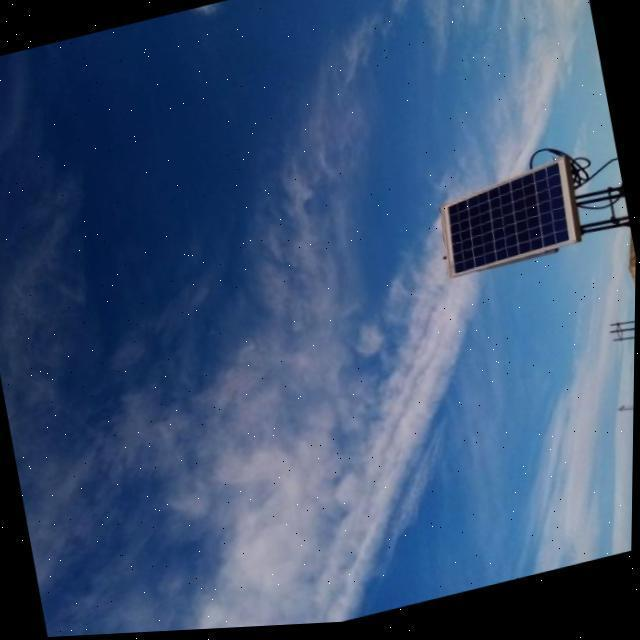Normal Solar Panel: (432, 162, 582, 283)
